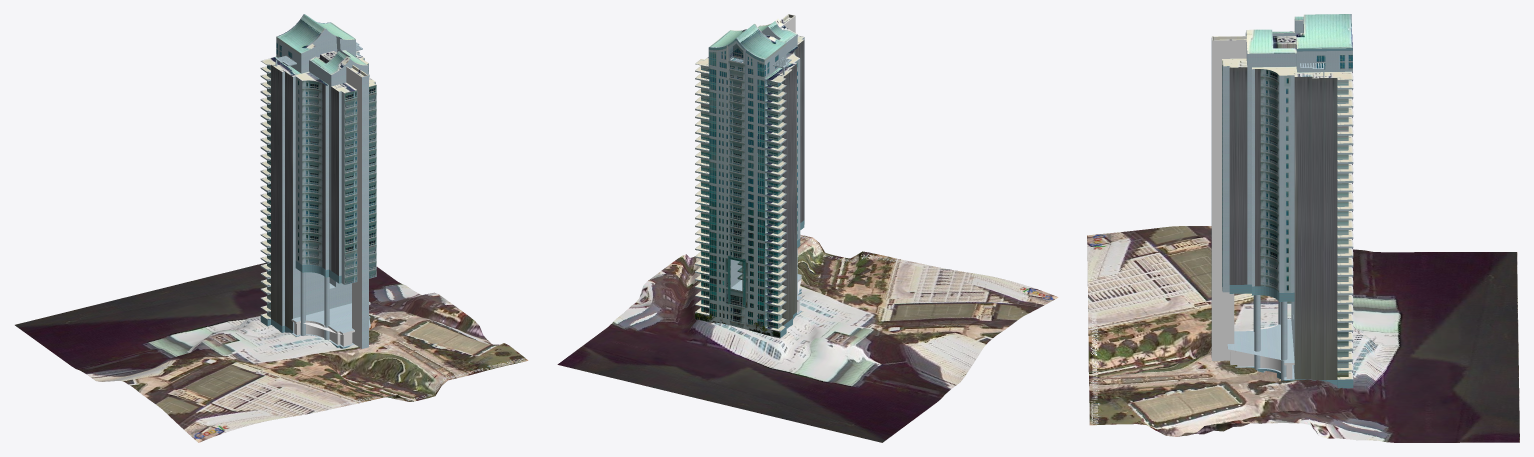
File: Asia-Condo.fbx
3 renders of one model, left to right at view 1: azimuth 30°, elevation 25°; view 2: azimuth 150°, elevation 25°; view 3: azimuth 270°, elevation 25°, orthographic. The views are drawn at different scales.
Parts seen in each view (by area): view 1: Google_Earth_Terrain, Group1; view 2: Google_Earth_Terrain, Group1; view 3: Google_Earth_Terrain, Group1, Component_1_1, Component_1_4.
Boxes of the visible parts, left/top/right/bottom form: Google_Earth_Terrain: left=15, top=262, right=528, bottom=442; Group1: left=260, top=14, right=376, bottom=348; Google_Earth_Terrain: left=557, top=234, right=1058, bottom=442; Group1: left=695, top=14, right=804, bottom=338; Google_Earth_Terrain: left=1087, top=226, right=1519, bottom=442; Group1: left=1211, top=14, right=1353, bottom=388; Component_1_1: left=1281, top=301, right=1287, bottom=380; Component_1_4: left=1254, top=295, right=1260, bottom=370.
Size of the model in its own units: 6425 by 5683 by 6126.
